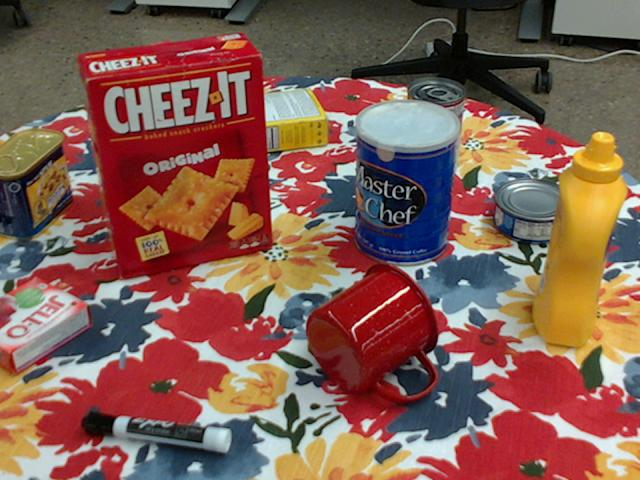cracker_box: (75, 33, 269, 276)
gelatin_box: (0, 277, 92, 374)
large_marker: (81, 410, 231, 452)
master_chef_can: (355, 100, 459, 267)
mug: (306, 263, 441, 401)
mustard_bottle: (531, 133, 624, 347)
potted_meat_can: (0, 127, 69, 239)
sugar_box: (175, 89, 326, 162)
tomato_soup_can: (403, 78, 464, 180)
tuna_fish_can: (492, 180, 574, 246)
